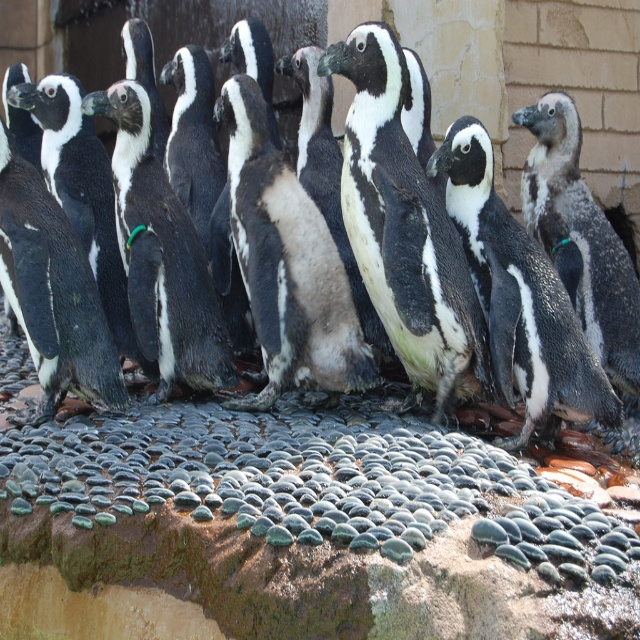Penguin: (422, 93, 625, 443), (325, 26, 496, 430), (214, 66, 396, 416), (86, 72, 246, 402), (7, 67, 151, 382), (0, 116, 140, 433), (162, 36, 258, 382), (282, 41, 370, 308), (117, 16, 169, 172), (400, 43, 446, 214)
